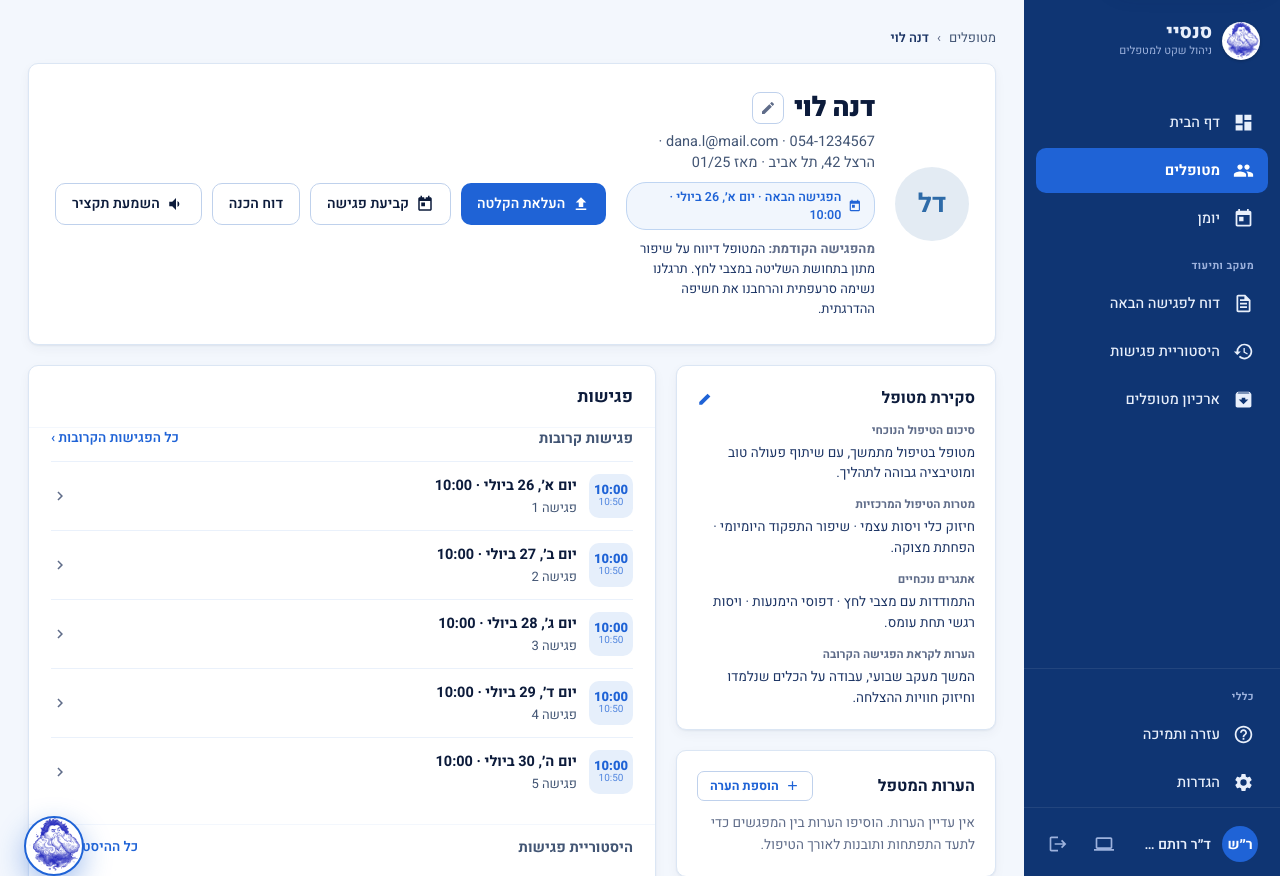
Test: patient upcoming meetings › shows up to 5 upcoming meetings on the patient page with a link to the full list
Click the button "כל הפגישות הקרובות ›" at (115, 438), box [51,428,179,448]
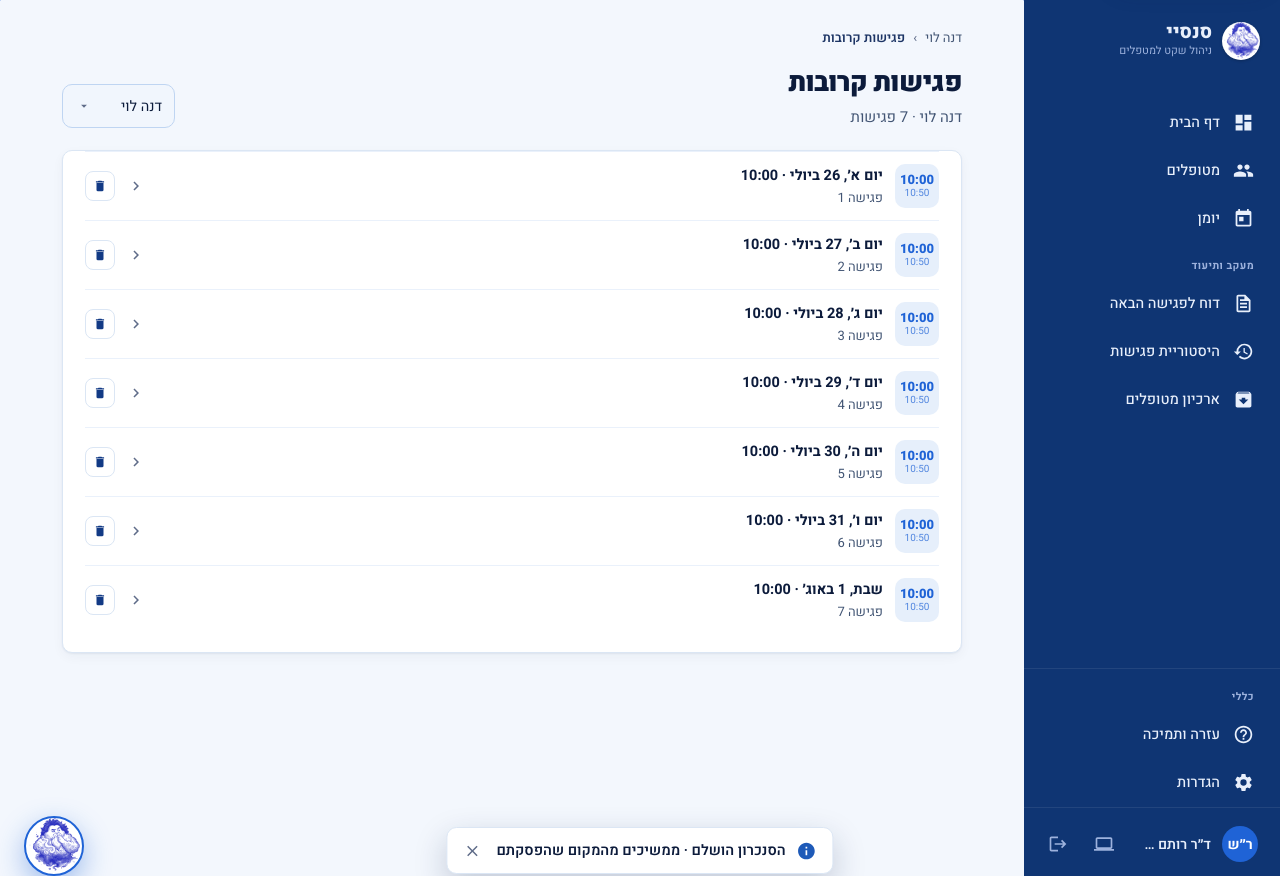
Now the heading "פגישות קרובות" is shown, box [788,63,962,102]
